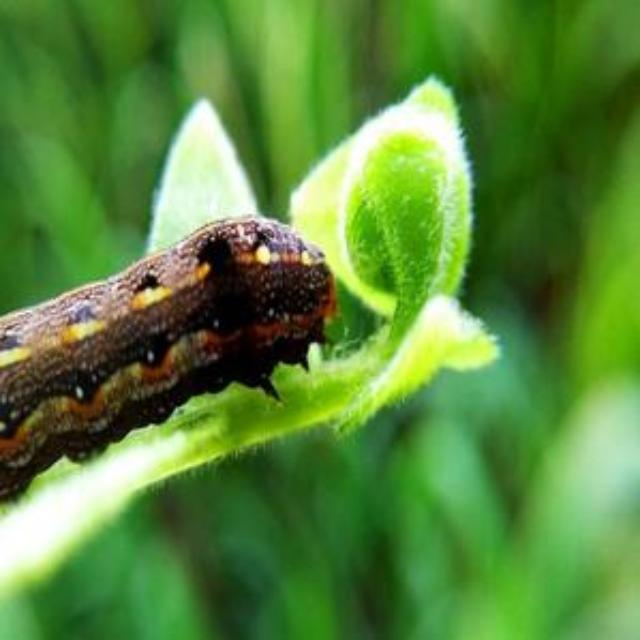Tobacco cutworm: (0, 203, 374, 523)
